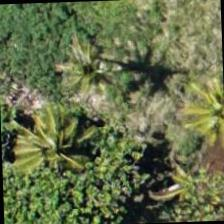Kelapa_Sawit: (42, 0, 136, 93), (20, 91, 113, 184), (176, 75, 223, 168)
